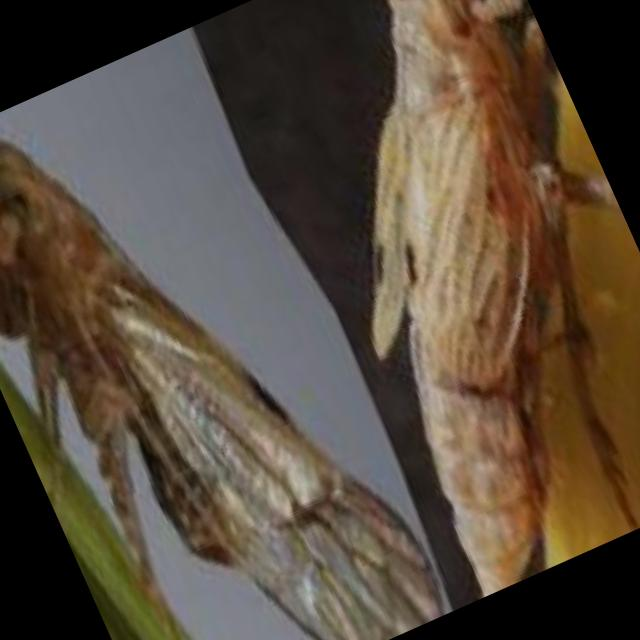brown-planthopper: (0, 35, 451, 640), (225, 0, 640, 598)
